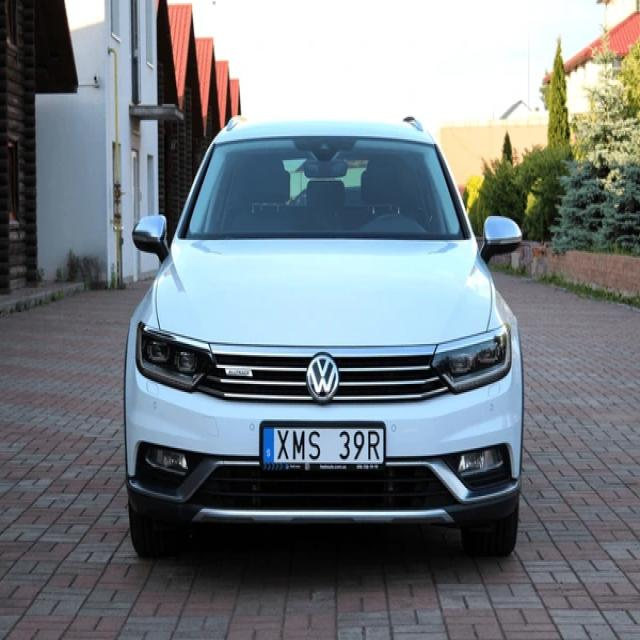wolksvogen: (308, 352, 339, 404)
